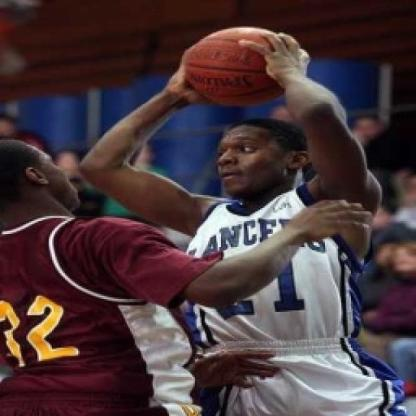basketball: (179, 23, 295, 111)
